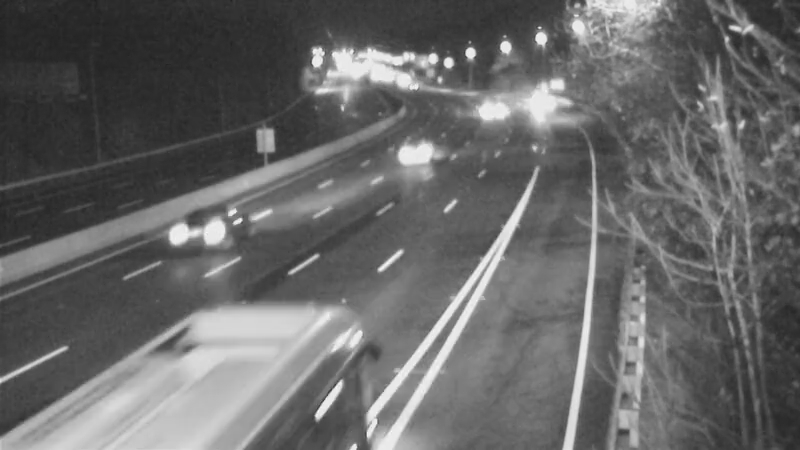vehicle: (136, 340, 246, 450), (159, 188, 239, 268), (517, 81, 567, 131), (461, 80, 511, 130), (396, 125, 446, 175)
